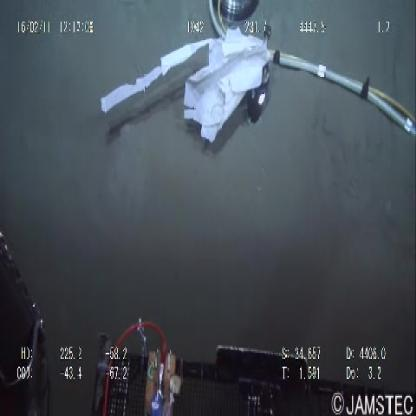Rov: (88, 317, 352, 416)
Rác: (97, 25, 279, 144)
